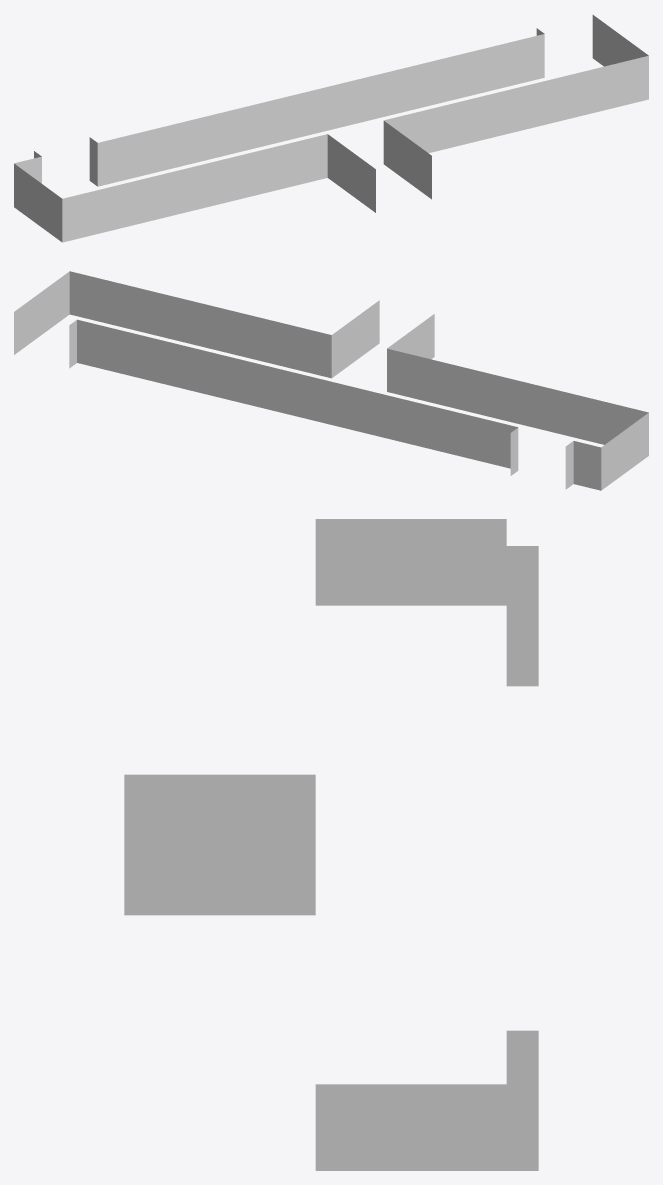
File: Block34.fbx
3 renders of one model, top to bottom at view 1: azimuth 30°, elevation 25°; view 2: azimuth 150°, elevation 25°; view 3: azimuth 270°, elevation 25°, orthographic. The views are drawn at different scales.
Parts seen in each view (by area): view 1: Lab_Wall_Yellow; view 2: Lab_Wall_Yellow; view 3: Lab_Wall_Yellow.
Boxes of the visible parts, bbox=[...] form: Lab_Wall_Yellow: bbox=[14, 15, 648, 242]; Lab_Wall_Yellow: bbox=[14, 271, 648, 490]; Lab_Wall_Yellow: bbox=[124, 519, 538, 1170].
Bounding box in the file's own units: 42 × 3 × 13.
Materials: 1 (1 with a texture image).
